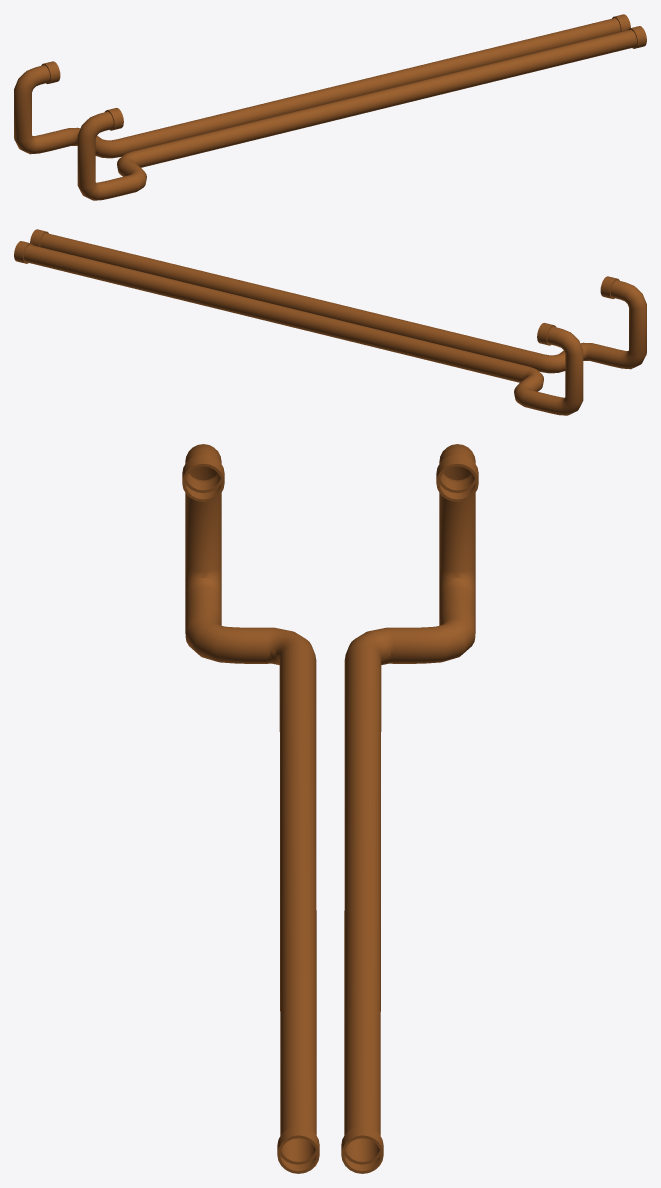
File: 11_TubosTecho.fbx
3 views of the same model, one above another, from view 1: azimuth 30°, elevation 25°; view 2: azimuth 150°, elevation 25°; view 3: azimuth 270°, elevation 25° (orthographic). The views are drawn at different scales.
Visible parts, largest first — view 1: TubosTecho_01; view 2: TubosTecho_01; view 3: TubosTecho_01.
Part boxes in pixels (box(x1,y1,x2,y2)): TubosTecho_01: box(14, 14, 646, 200); TubosTecho_01: box(14, 229, 646, 415); TubosTecho_01: box(182, 444, 478, 1173).
Size of the model in its own units: 2448 by 352 by 536.
